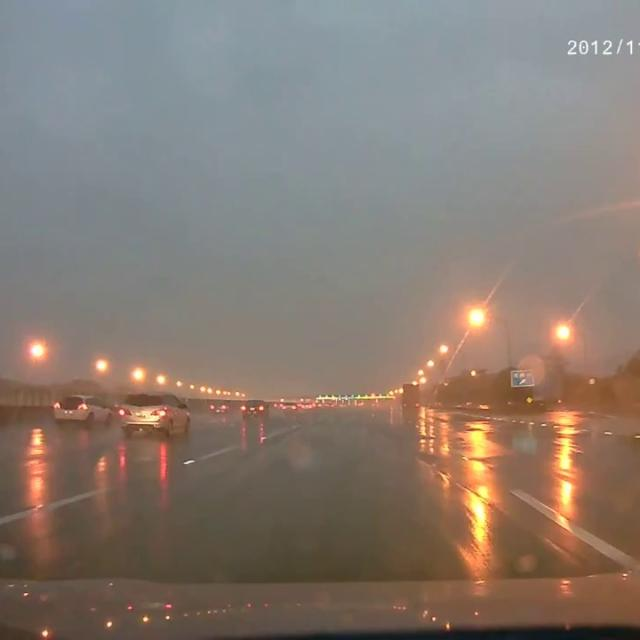Car: (118, 390, 192, 434), (51, 391, 112, 426), (239, 397, 269, 419), (208, 401, 226, 412)
